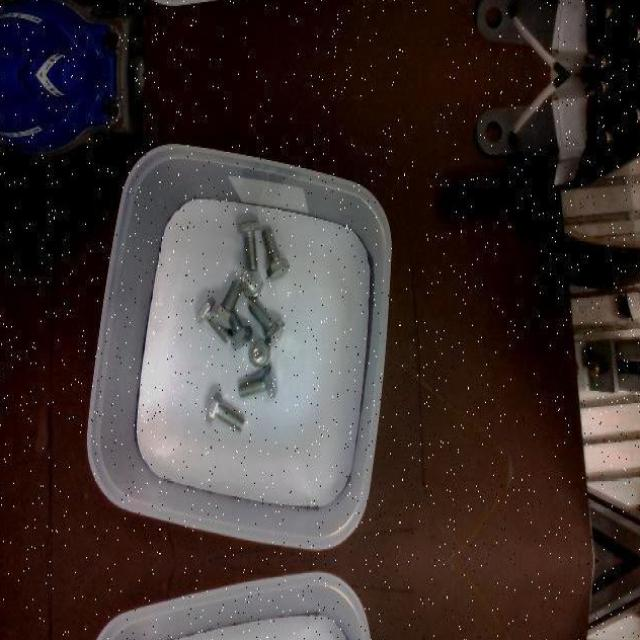screw: (249, 299, 286, 346), (206, 390, 245, 432), (212, 278, 244, 328), (262, 228, 291, 279), (239, 362, 277, 398), (238, 220, 262, 270), (249, 337, 270, 371), (242, 269, 264, 298)
